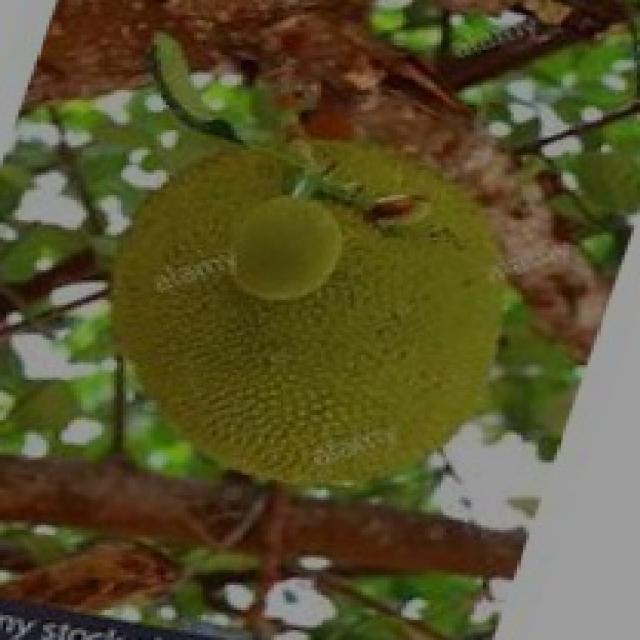Fruit: (77, 115, 412, 513)
